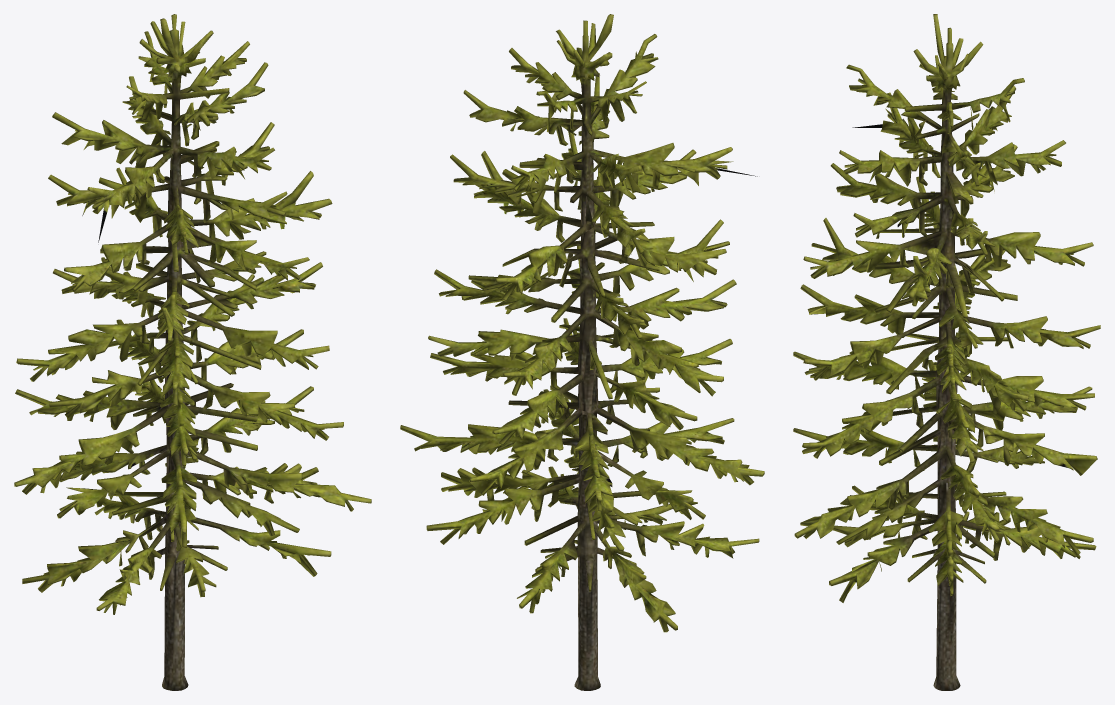
The model's file is tree-1.glb.
The picture shows the model from 3 angles, left to right: view 1: azimuth 30°, elevation 25°; view 2: azimuth 150°, elevation 25°; view 3: azimuth 270°, elevation 25°; orthographic projection.
Parts seen in each view (by area): view 1: tripo_node_8cc71767-2a3b-4421-ae07-4cc6852b4bb4; view 2: tripo_node_8cc71767-2a3b-4421-ae07-4cc6852b4bb4; view 3: tripo_node_8cc71767-2a3b-4421-ae07-4cc6852b4bb4.
Part boxes in pixels (x1,y1,x2,y2): tripo_node_8cc71767-2a3b-4421-ae07-4cc6852b4bb4: (14, 14, 371, 690); tripo_node_8cc71767-2a3b-4421-ae07-4cc6852b4bb4: (400, 14, 764, 690); tripo_node_8cc71767-2a3b-4421-ae07-4cc6852b4bb4: (793, 14, 1100, 690).
Bounding box in the file's own units: 0.5037 × 0.9786 × 0.4117.
Materials: 1 (1 with a texture image).
